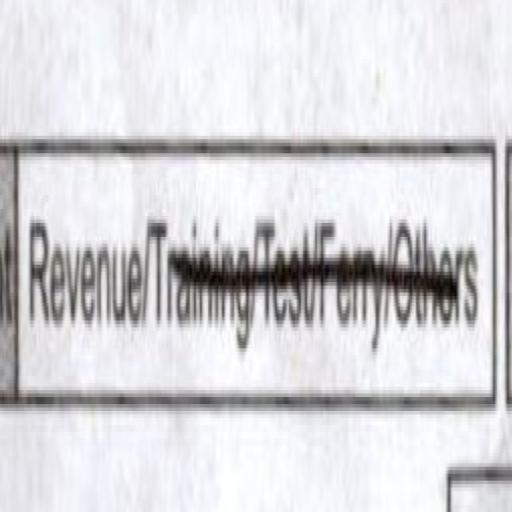check: (22, 87, 144, 419)
